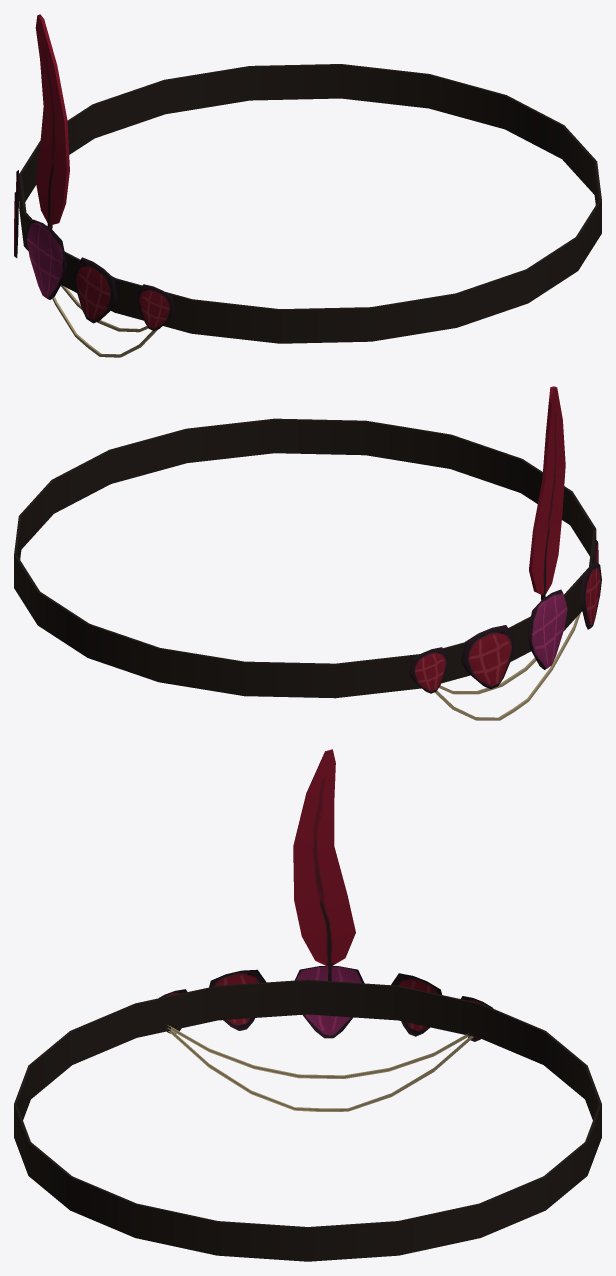
File: Headband.fbx
The picture shows the model from 3 angles, top to bottom: view 1: azimuth 30°, elevation 25°; view 2: azimuth 150°, elevation 25°; view 3: azimuth 270°, elevation 25°; orthographic projection.
Parts seen in each view (by area): view 1: Headband_Band, HeadbandFeather, HeadbandGemBig, HeadbandGemSmall2, HeadbandGemSmall3, HeadbandString2; view 2: Headband_Band, HeadbandFeather, HeadbandGemSmall1, HeadbandGemBig, HeadbandGemSmall, HeadbandGemSmall2, HeadbandString2; view 3: Headband_Band, HeadbandFeather, HeadbandGemBig, HeadbandString2, HeadbandString1, HeadbandGemSmall2, HeadbandGemSmall1.
Boxes of the visible parts, <box> form: Headband_Band: <box>19,64,601,343</box>; HeadbandFeather: <box>35,14,69,229</box>; HeadbandGemBig: <box>27,219,67,299</box>; HeadbandGemSmall2: <box>74,257,117,323</box>; HeadbandGemSmall3: <box>137,284,175,330</box>; HeadbandString2: <box>52,296,157,357</box>; Headband_Band: <box>14,418,596,698</box>; HeadbandFeather: <box>529,386,565,599</box>; HeadbandGemSmall1: <box>461,625,515,689</box>; HeadbandGemBig: <box>527,589,567,669</box>; HeadbandGemSmall: <box>409,647,448,693</box>; HeadbandGemSmall2: <box>580,562,601,629</box>; HeadbandString2: <box>435,613,580,720</box>; Headband_Band: <box>14,979,601,1261</box>; HeadbandFeather: <box>293,749,355,981</box>; HeadbandGemBig: <box>294,966,364,1038</box>; HeadbandString2: <box>168,1028,473,1111</box>; HeadbandString1: <box>167,1025,469,1078</box>; HeadbandGemSmall2: <box>209,969,265,1030</box>; HeadbandGemSmall1: <box>391,973,441,1036</box>.
Bounding box in the file's own units: 20.38 × 12.84 × 20.1.
